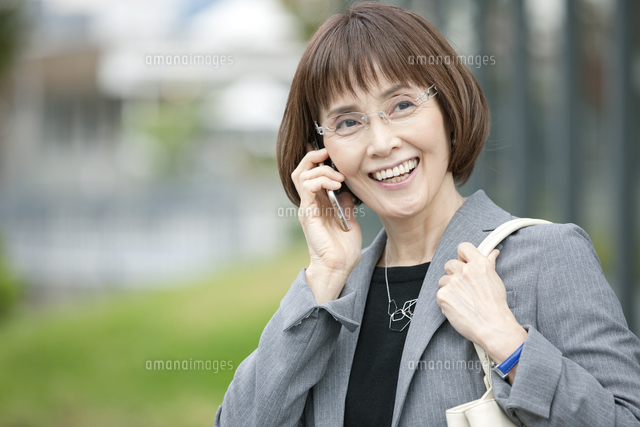phone: (286, 132, 358, 232)
talk: (285, 73, 442, 276)
